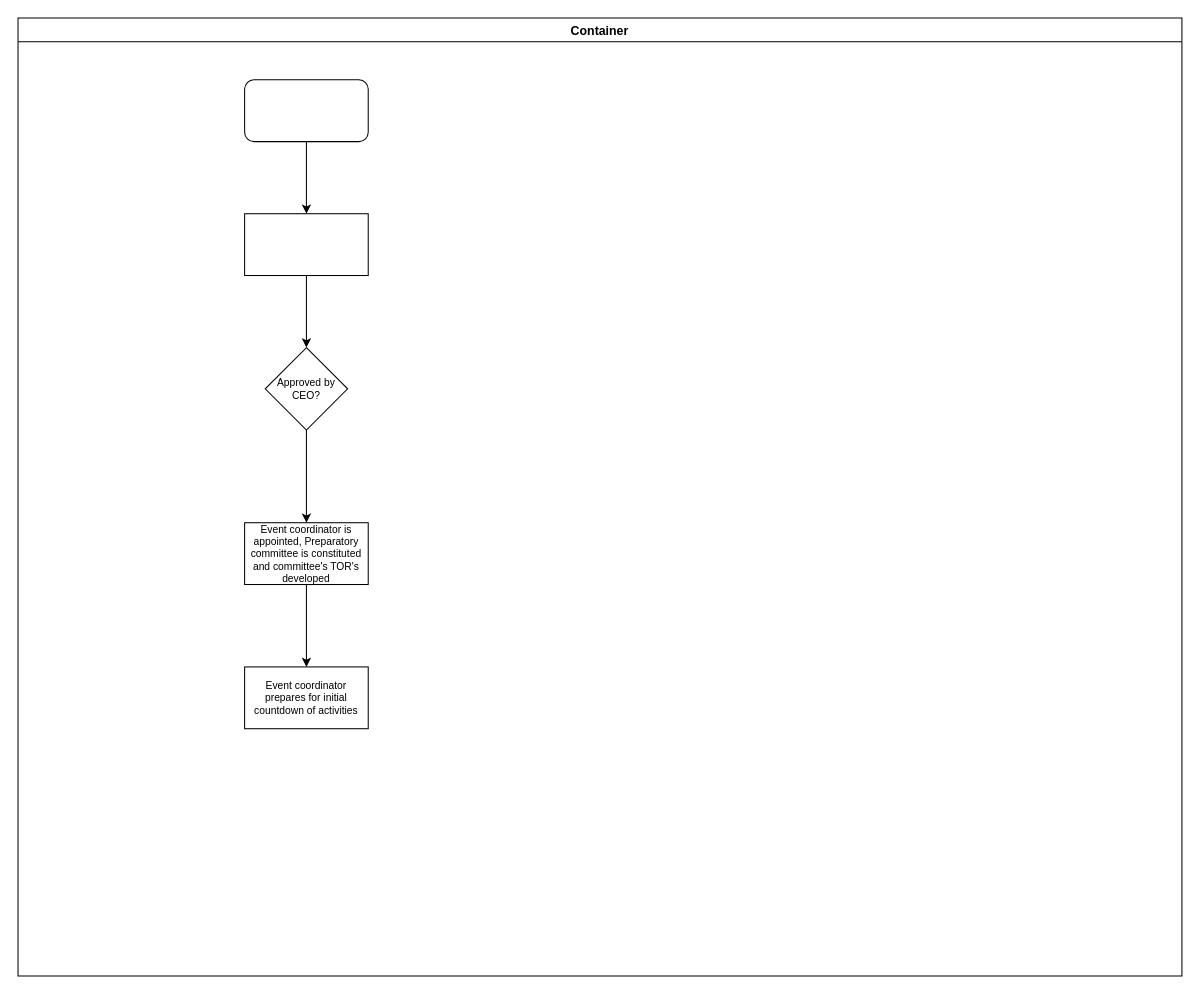
The diagram is 1200 pixels wide and 994 high, and some of its shapes have lost their labels. Here are the shapes that lost their labels. From the top down, the centre of each, then its label:
At point (306, 110): "Start".
At point (306, 244): "HOD Develops a concept".
